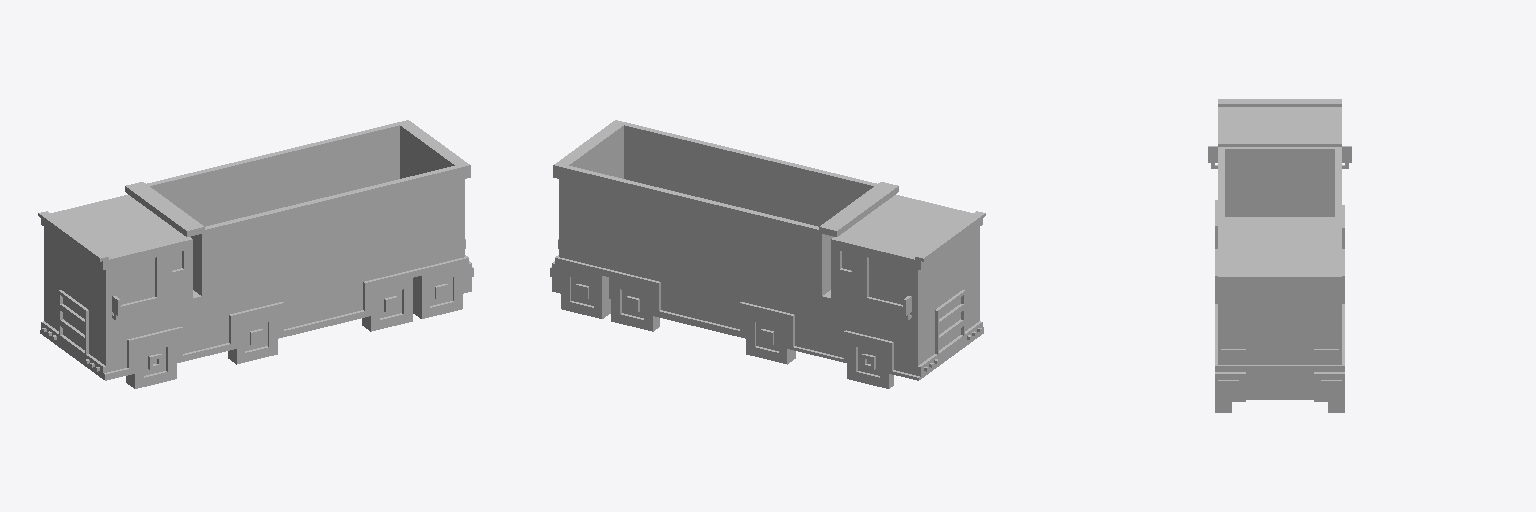
File: alll cars3-59.obj
The picture shows the model from 3 angles: view 1: azimuth 30°, elevation 25°; view 2: azimuth 150°, elevation 25°; view 3: azimuth 270°, elevation 25°; orthographic projection.
Parts seen in each view (by area): view 1: object 1; view 2: object 1; view 3: object 1.
Boxes of the visible parts, x1=… form: object 1: x1=38, y1=120, x2=473, y2=388; object 1: x1=550, y1=120, x2=985, y2=388; object 1: x1=1208, y1=99, x2=1351, y2=412.
Size of the model in its own units: 12.5 by 4.6 by 4.2.